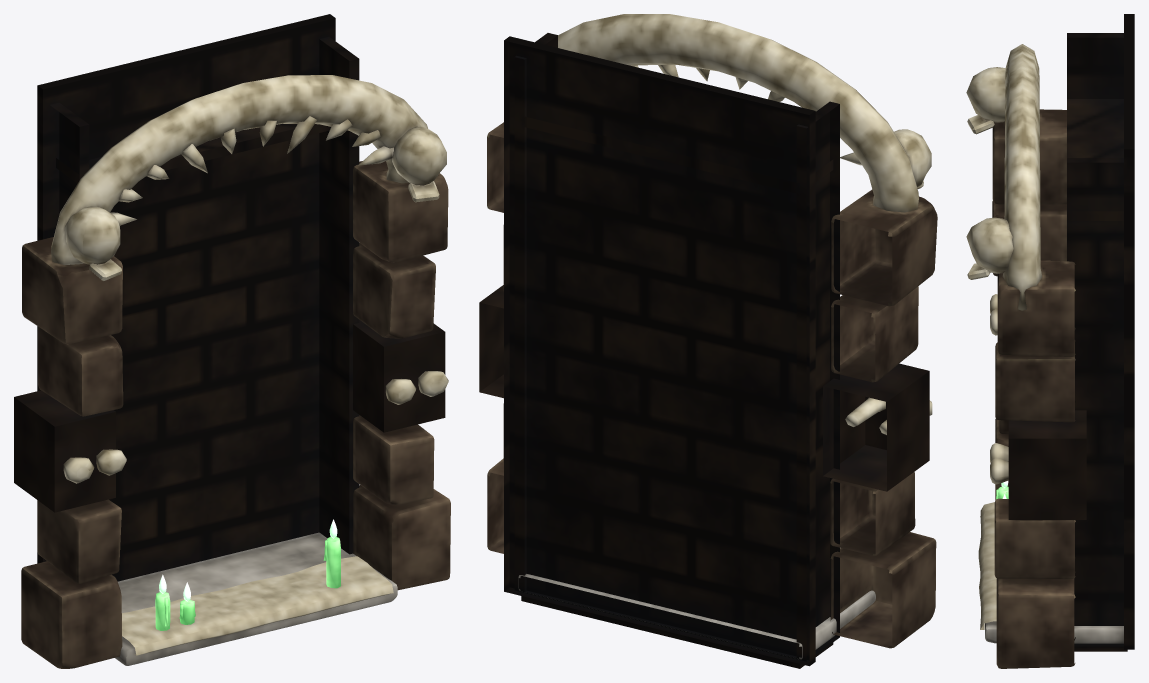
File: Ossuary_Door.fbx
3 views of the same model, side by side, from view 1: azimuth 30°, elevation 25°; view 2: azimuth 150°, elevation 25°; view 3: azimuth 270°, elevation 25° (orthographic). The views are drawn at different scales.
Parts seen in each view (by area): view 1: Ossuary_Door; view 2: Ossuary_Door; view 3: Ossuary_Door.
Boxes of the visible parts, <box> form: Ossuary_Door: <box>14,14,450,668</box>; Ossuary_Door: <box>479,14,937,668</box>; Ossuary_Door: <box>966,14,1134,668</box>.
Bounding box in the file's own units: 2.42 × 3.21 × 0.9451.
